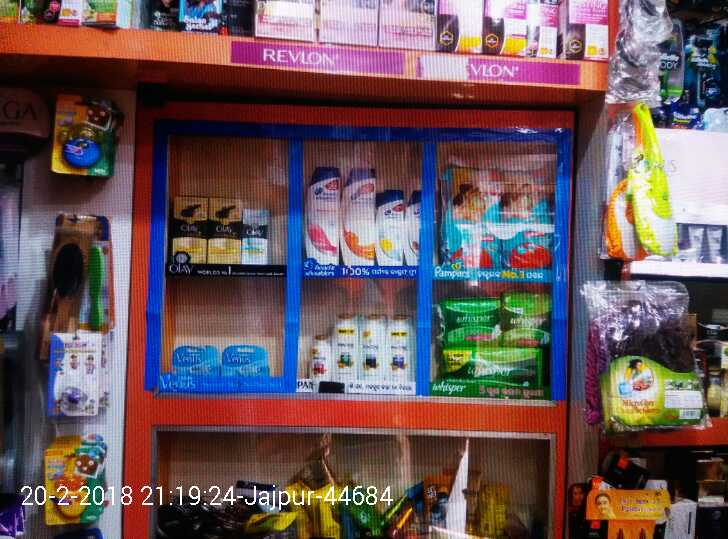venus: (174, 346, 223, 376), (223, 347, 268, 376)
